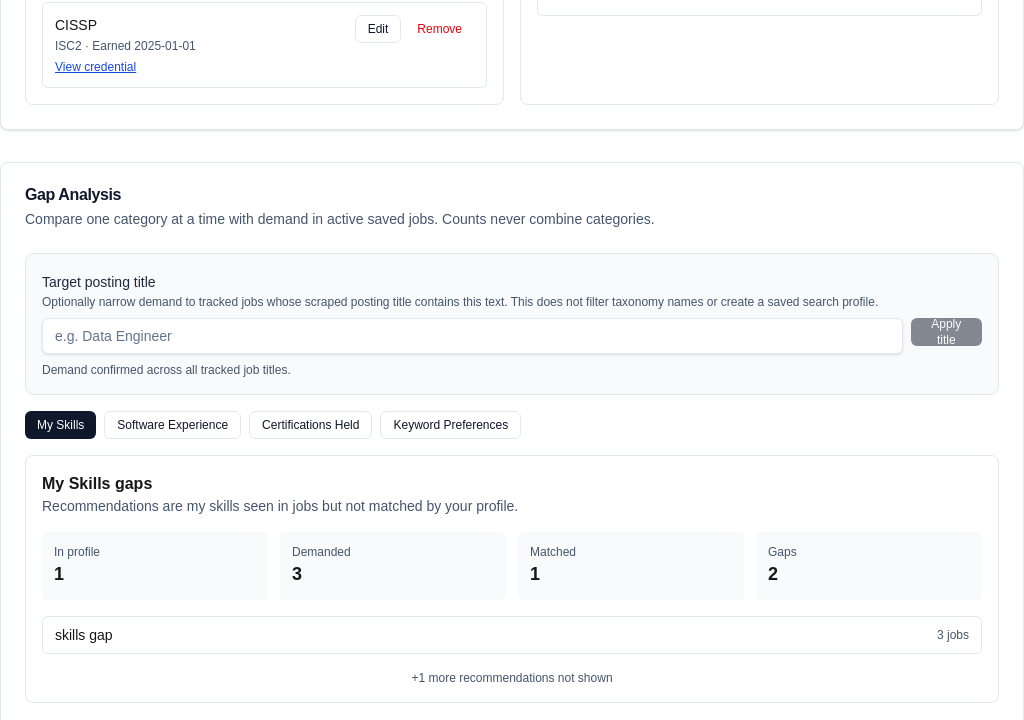
Test: TaxonomyProfileSettings › applies and clears a posting-title demand scope independently of category
(page scrolled)
Type "  Data Engineer  " into the field labelled "Target posting title" at (472, 336), box [42,318,902,354]
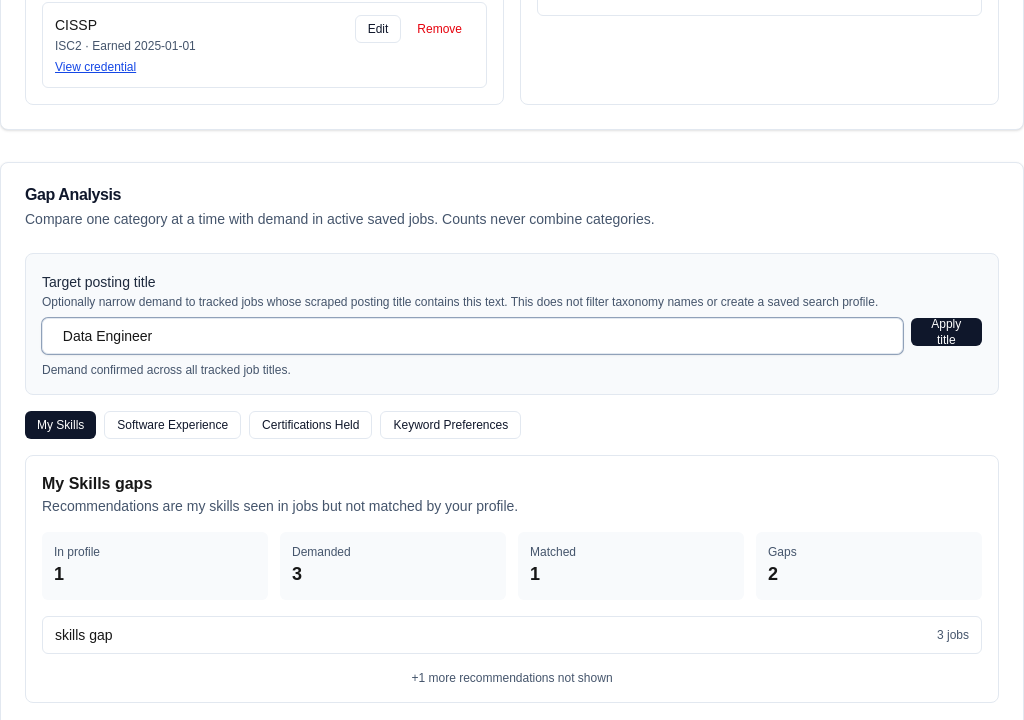
Click the button "Apply title" at (946, 332), box [910,318,982,346]
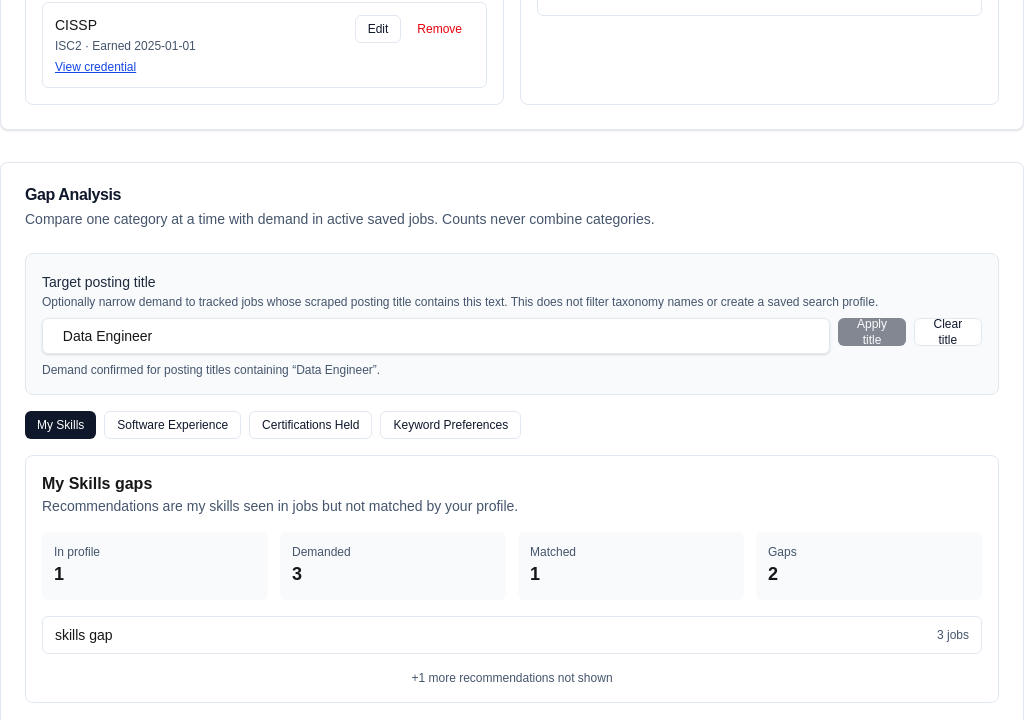
Check: the text "Demand confirmed for posting titles containing “Data Engineer”." is shown, box [42,363,380,377]
Click the tab "Software Experience" at (173, 425), box [104,411,241,439]
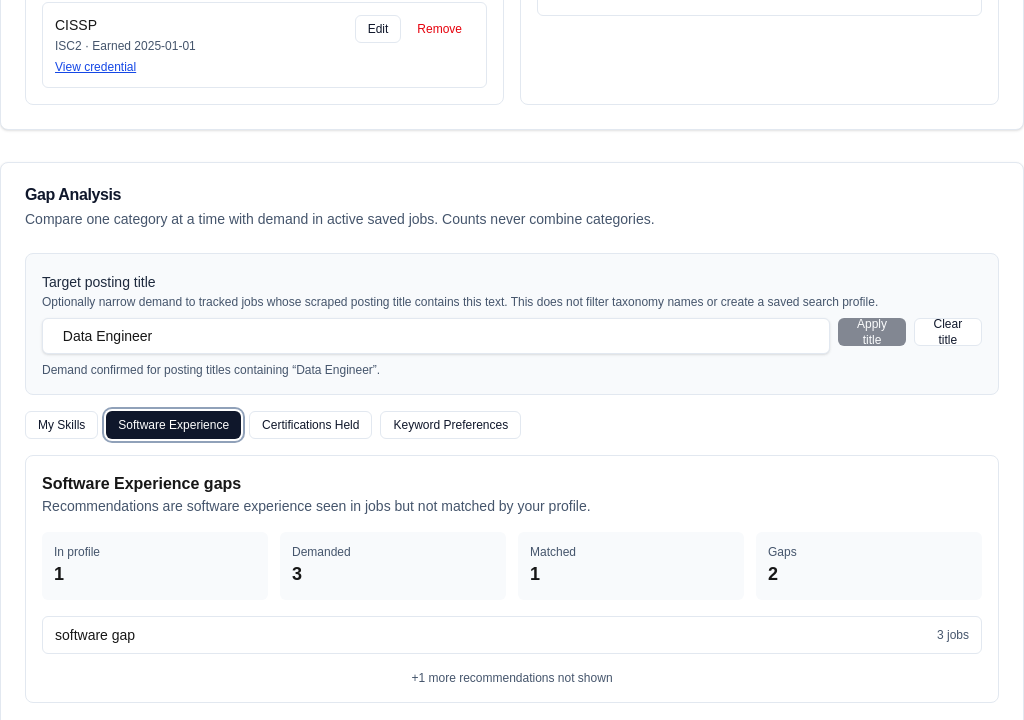
Click the button "Clear title" at (948, 332), box [914,318,982,346]
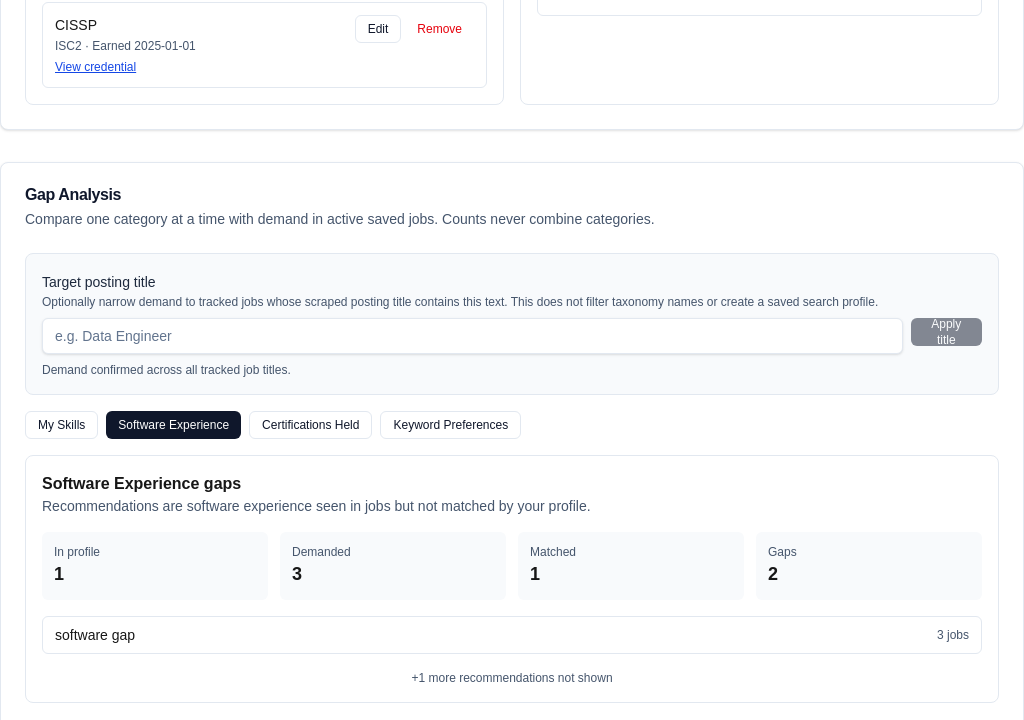
Check: the field labelled "Target posting title" is empty, box [42,318,902,354]
